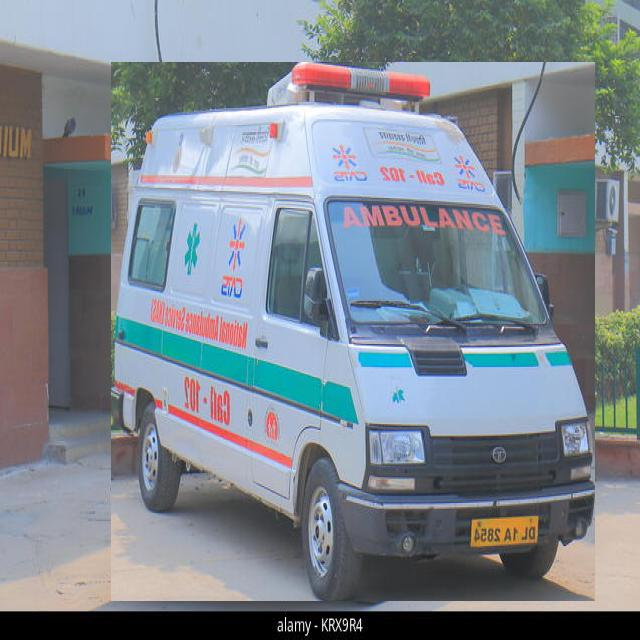emergency: (111, 63, 595, 601)
